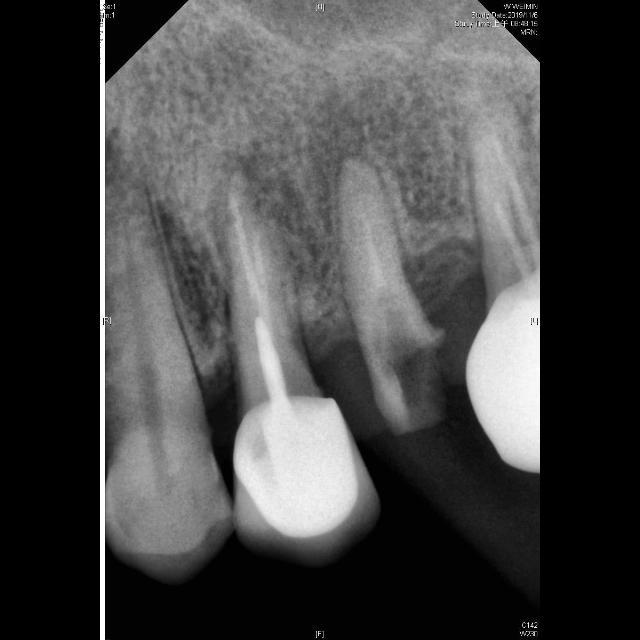teeth: (106, 190, 232, 581), (386, 320, 387, 320)
